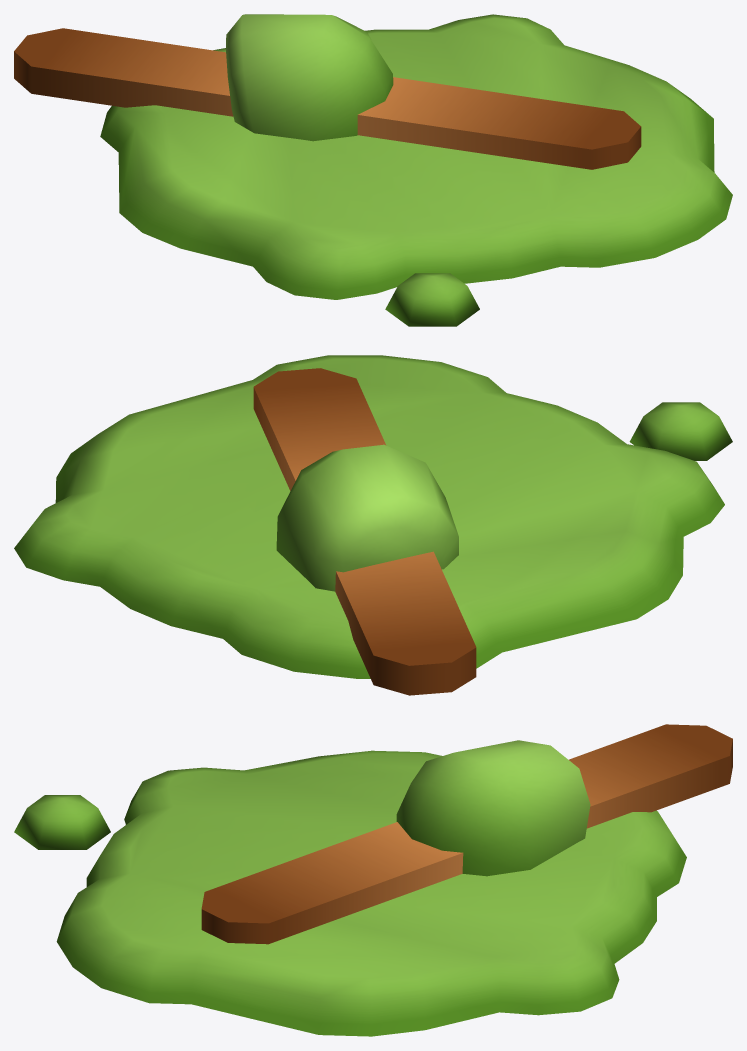
The model's file is m_SpilledPopsicle05.fbx.
The picture shows the model from 3 angles, top to bottom: view 1: azimuth 30°, elevation 25°; view 2: azimuth 150°, elevation 25°; view 3: azimuth 270°, elevation 25°; orthographic projection. The views are drawn at different scales.
Parts seen in each view (by area): view 1: m_SpilledPopsicle05; view 2: m_SpilledPopsicle05; view 3: m_SpilledPopsicle05.
Boxes of the visible parts, x1=… form: m_SpilledPopsicle05: x1=14, y1=14, x2=732, y2=326; m_SpilledPopsicle05: x1=14, y1=355, x2=732, y2=695; m_SpilledPopsicle05: x1=14, y1=724, x2=732, y2=1036.
Size of the model in its own units: 12.21 by 2.52 by 13.54.
